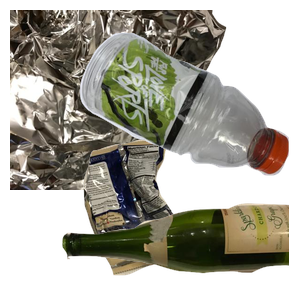glass: (60, 201, 300, 300)
metal: (10, 10, 229, 190)
plastic: (77, 30, 300, 198)
trash: (81, 137, 280, 300)
